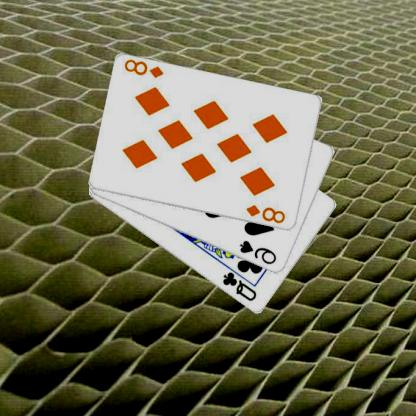8D: (245, 203, 289, 225), (123, 58, 167, 80)
9S: (238, 238, 280, 266)
QC: (221, 270, 260, 303)
